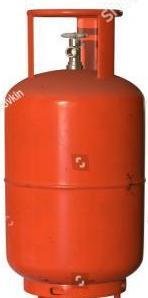cylinder: (1, 1, 148, 298)
